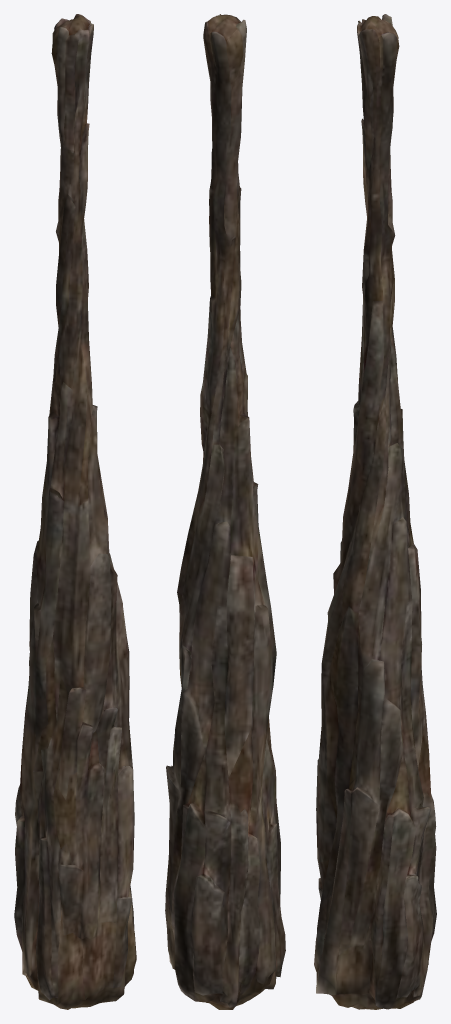
File: weapon-wp_a_0850.glb
3 renders of one model, left to right at view 1: azimuth 90°, elevation 25°; view 2: azimuth 210°, elevation 25°; view 3: azimuth 270°, elevation 25°, orthographic.
Visible parts, largest first — view 1: wp_a_0850_mesh; view 2: wp_a_0850_mesh; view 3: wp_a_0850_mesh.
Part boxes in pixels (x1,y1,x2,y2): wp_a_0850_mesh: (14,14,136,1009); wp_a_0850_mesh: (165,14,285,1009); wp_a_0850_mesh: (314,14,436,1009).
Bounding box in the file's own units: 0.2146 × 1.93 × 0.2168.
1 material, 1 textured.
